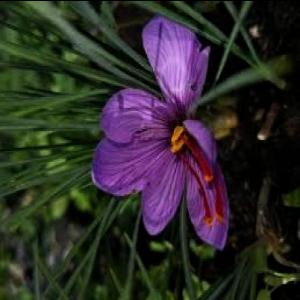Saffron: (93, 10, 229, 248)
